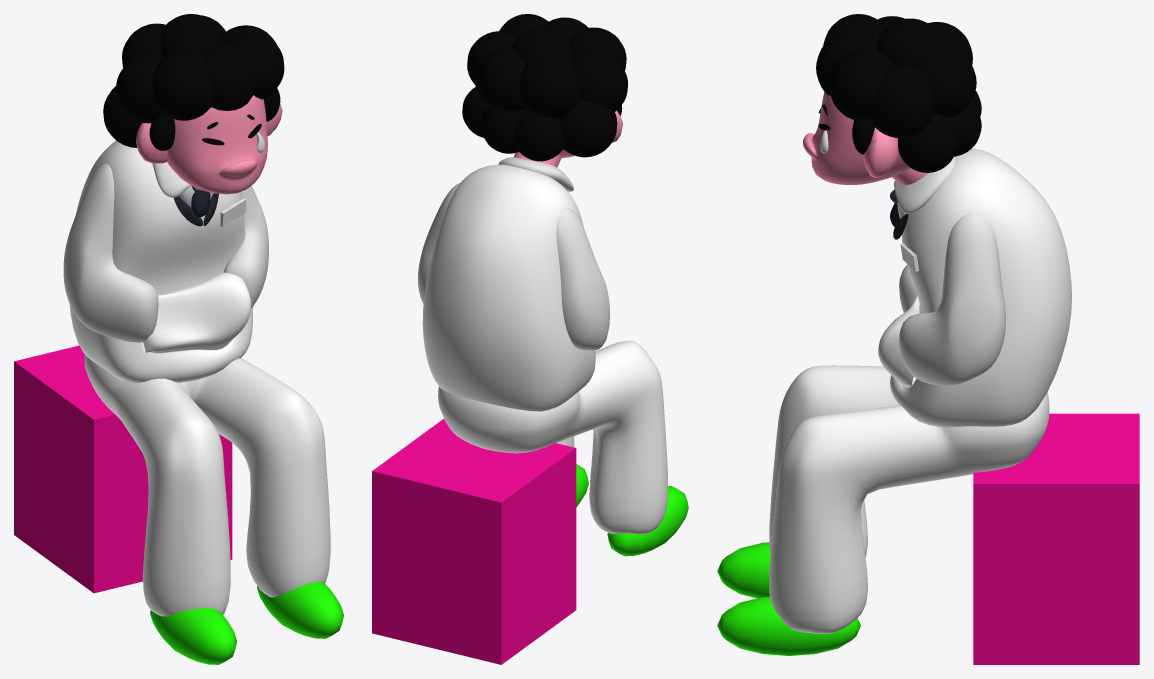
Rendered from student_sad.glb.
3 renders of one model, left to right at view 1: azimuth 30°, elevation 25°; view 2: azimuth 150°, elevation 25°; view 3: azimuth 270°, elevation 25°, orthographic. The views are drawn at different scales.
Visible parts, largest first — view 1: pCube10, pCube9, 1body1, hair, 3-2body, pCube1, pCube13, pCube12, 아이코스피어; view 2: pCube9, 1body1, pCube10, hair, 3-2body, pCube13, 아이코스피어; view 3: pCube9, pCube10, 1body1, hair, 3-2body, pCube1, pCube12, pCube13, 아이코스피어.
Part boxes in pixels (box(x1,y1,x2,y2)): pCube10: box(84, 342, 330, 616); pCube9: box(14, 345, 232, 593); 1body1: box(69, 140, 252, 383); hair: box(103, 14, 284, 150); 3-2body: box(63, 164, 268, 342); pCube1: box(136, 95, 282, 194); pCube13: box(150, 608, 236, 664); pCube12: box(257, 581, 343, 638); 아이코스피어: box(152, 162, 190, 197); pCube9: box(372, 419, 576, 664); 1body1: box(422, 164, 595, 411); pCube10: box(438, 341, 667, 534); hair: box(462, 14, 627, 161); 3-2body: box(417, 182, 609, 350); pCube13: box(607, 486, 688, 556); 아이코스피어: box(498, 157, 573, 191); pCube9: box(973, 413, 1139, 664); pCube10: box(769, 365, 1049, 633); 1body1: box(878, 148, 1071, 427); hair: box(816, 14, 981, 172); 3-2body: box(899, 214, 1005, 386); pCube1: box(803, 92, 928, 185); pCube12: box(717, 596, 860, 655); pCube13: box(717, 542, 770, 598); 아이코스피어: box(893, 156, 956, 213).
Bounding box in the file's own units: 0.4183 × 1.21 × 0.7618.
